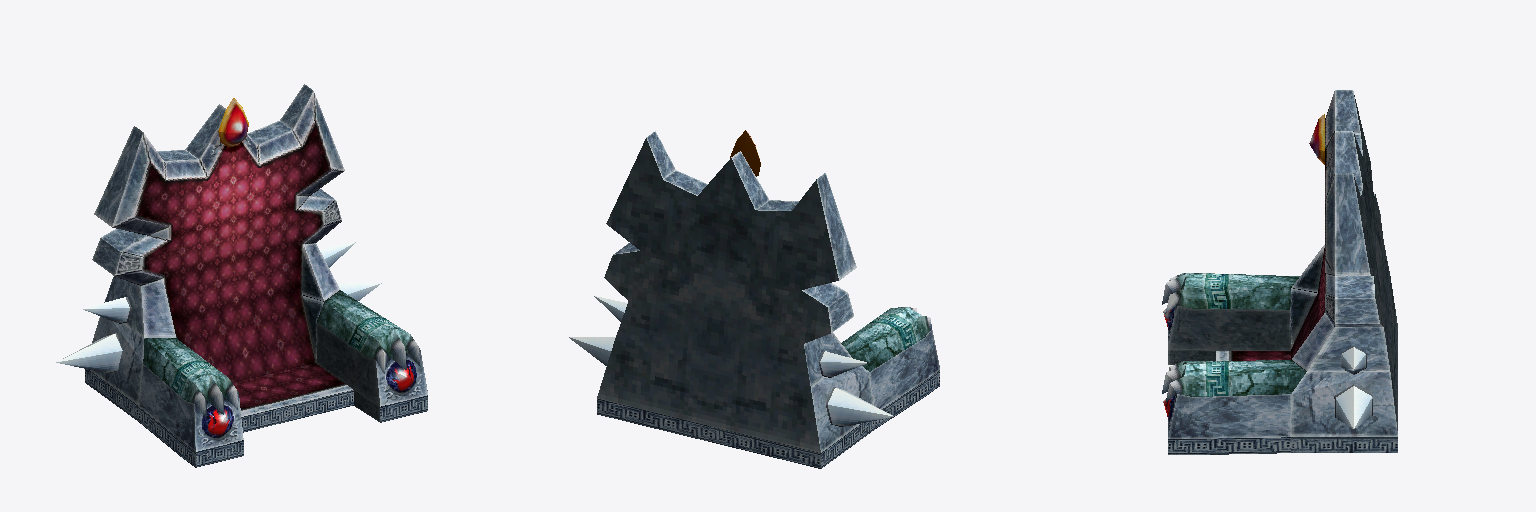
3 renders of one model, left to right at view 1: azimuth 30°, elevation 25°; view 2: azimuth 150°, elevation 25°; view 3: azimuth 270°, elevation 25°, orthographic.
Parts seen in each view (by area): view 1: throne; view 2: throne; view 3: throne.
Part boxes in pixels (bbox=[...]): throne: bbox=[56, 84, 427, 467]; throne: bbox=[569, 130, 939, 468]; throne: bbox=[1162, 90, 1397, 454].
Size of the model in its own units: 689 by 573 by 431.
Materials: 1 (1 with a texture image).